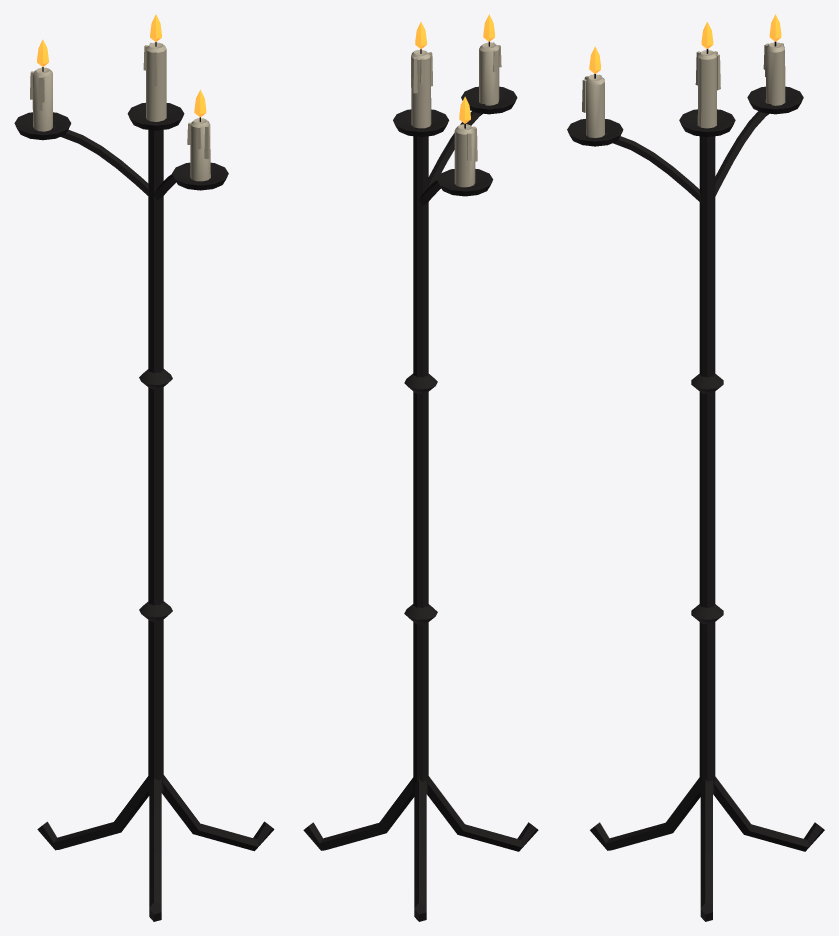
The model's file is kerzenstaender.glb.
The picture shows the model from 3 angles, left to right: view 1: azimuth 30°, elevation 25°; view 2: azimuth 150°, elevation 25°; view 3: azimuth 270°, elevation 25°; orthographic projection.
Visible parts, largest first — view 1: kerzenstaender; view 2: kerzenstaender; view 3: kerzenstaender.
Part boxes in pixels (x1,y1,x2,y2): kerzenstaender: [14, 14, 274, 921]; kerzenstaender: [303, 14, 538, 921]; kerzenstaender: [567, 14, 824, 921].
Bounding box in the file's own units: 0.4476 × 1.67 × 0.4565.
